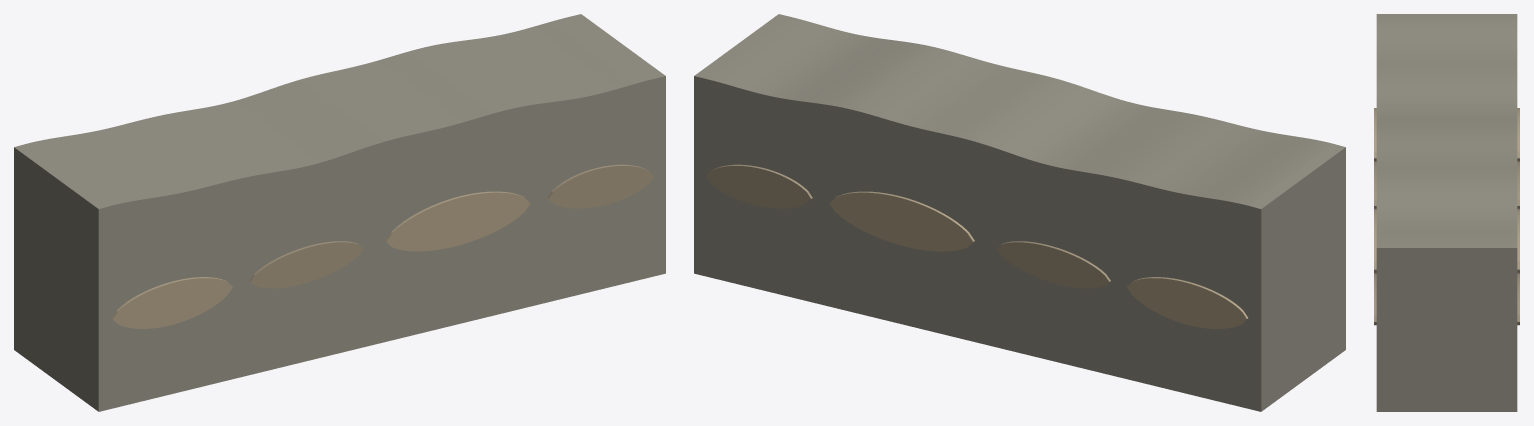
File: boudinaged-rock-layer.glb
The picture shows the model from 3 angles, left to right: view 1: azimuth 30°, elevation 25°; view 2: azimuth 150°, elevation 25°; view 3: azimuth 270°, elevation 25°; orthographic projection. The views are drawn at different scales.
Parts seen in each view (by area): view 1: Continuous enclosing matrix with filled inter-lens necks, Four unequal elongated boudin lenses; view 2: Continuous enclosing matrix with filled inter-lens necks, Four unequal elongated boudin lenses; view 3: Continuous enclosing matrix with filled inter-lens necks, Four unequal elongated boudin lenses.
Part boxes in pixels (x1,y1,x2,y2): Continuous enclosing matrix with filled inter-lens necks: (14,14,665,411); Four unequal elongated boudin lenses: (112,164,653,328); Continuous enclosing matrix with filled inter-lens necks: (694,14,1345,411); Four unequal elongated boudin lenses: (706,164,1247,328); Continuous enclosing matrix with filled inter-lens necks: (1376,14,1517,411); Four unequal elongated boudin lenses: (1374,108,1519,325).
Bounding box in the file's own units: 0.85 × 0.2909 × 0.228.
